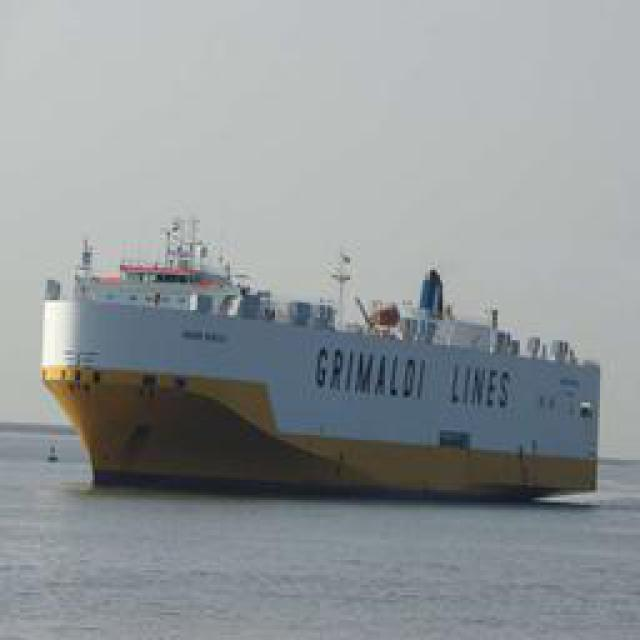Ship: (37, 210, 605, 500)
